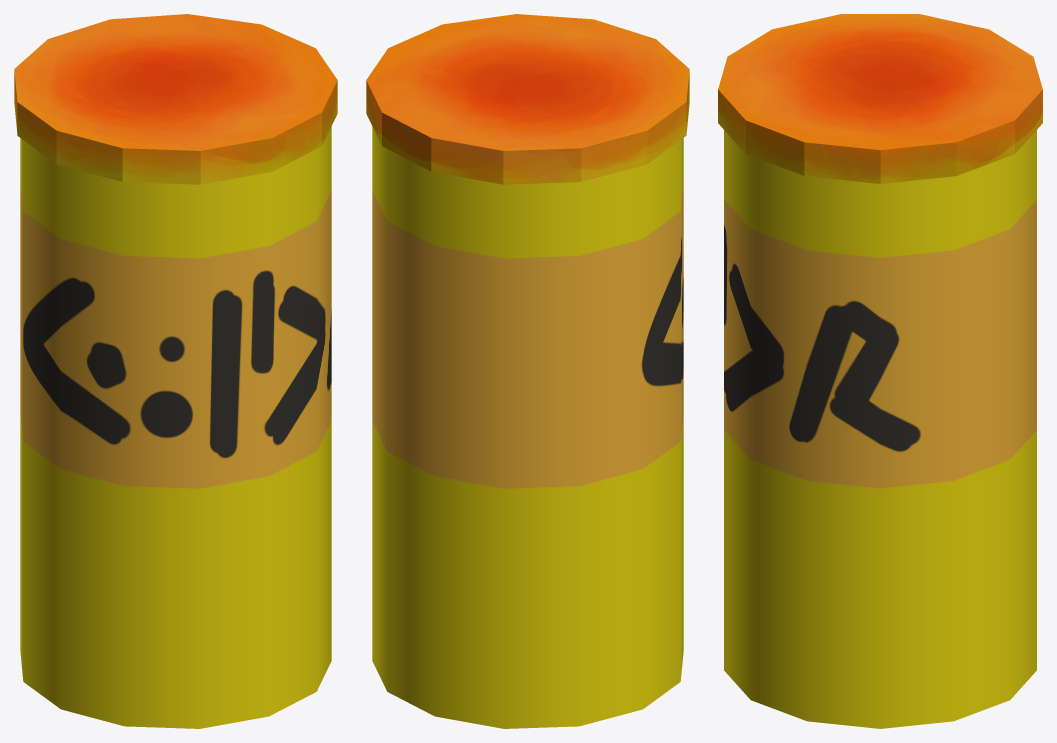
File: Food_Box3A.fbx
3 renders of one model, left to right at view 1: azimuth 30°, elevation 25°; view 2: azimuth 150°, elevation 25°; view 3: azimuth 270°, elevation 25°, orthographic.
Parts seen in each view (by area): view 1: pCylinder14; view 2: pCylinder14; view 3: pCylinder14.
Part boxes in pixels (<box>): pCylinder14: <box>14,14,337,728</box>; pCylinder14: <box>366,14,689,728</box>; pCylinder14: <box>718,14,1042,728</box>.
Bounding box in the file's own units: 11.54 × 22.96 × 11.63.
Materials: 1 (1 with a texture image).
